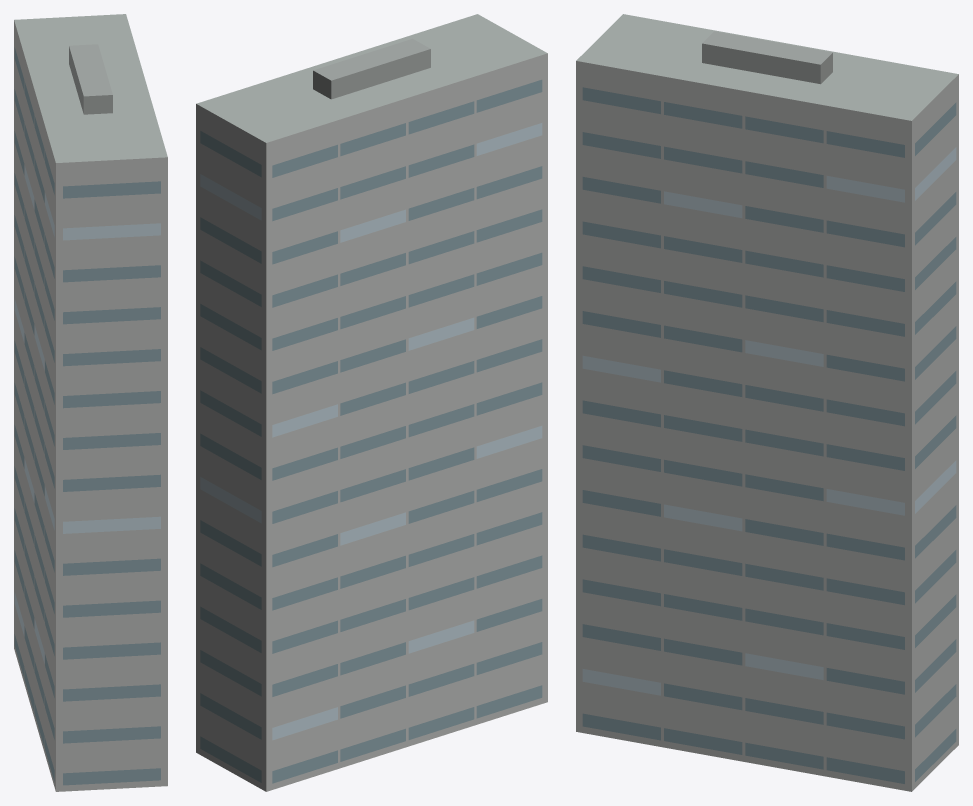
File: fallback-jamsil-els-163.glb
3 views of the same model, side by side, from view 1: azimuth 30°, elevation 25°; view 2: azimuth 150°, elevation 25°; view 3: azimuth 270°, elevation 25° (orthographic). The views are drawn at different scales.
Visible parts, largest first — view 1: fallback-jamsil-els-163; view 2: fallback-jamsil-els-163; view 3: fallback-jamsil-els-163.
Part boxes in pixels (x1,y1,x2,y2): fallback-jamsil-els-163: (14,14,167,791); fallback-jamsil-els-163: (196,14,547,791); fallback-jamsil-els-163: (576,14,958,791).
Bounding box in the file's own units: 28.25 × 85 × 42.7.
